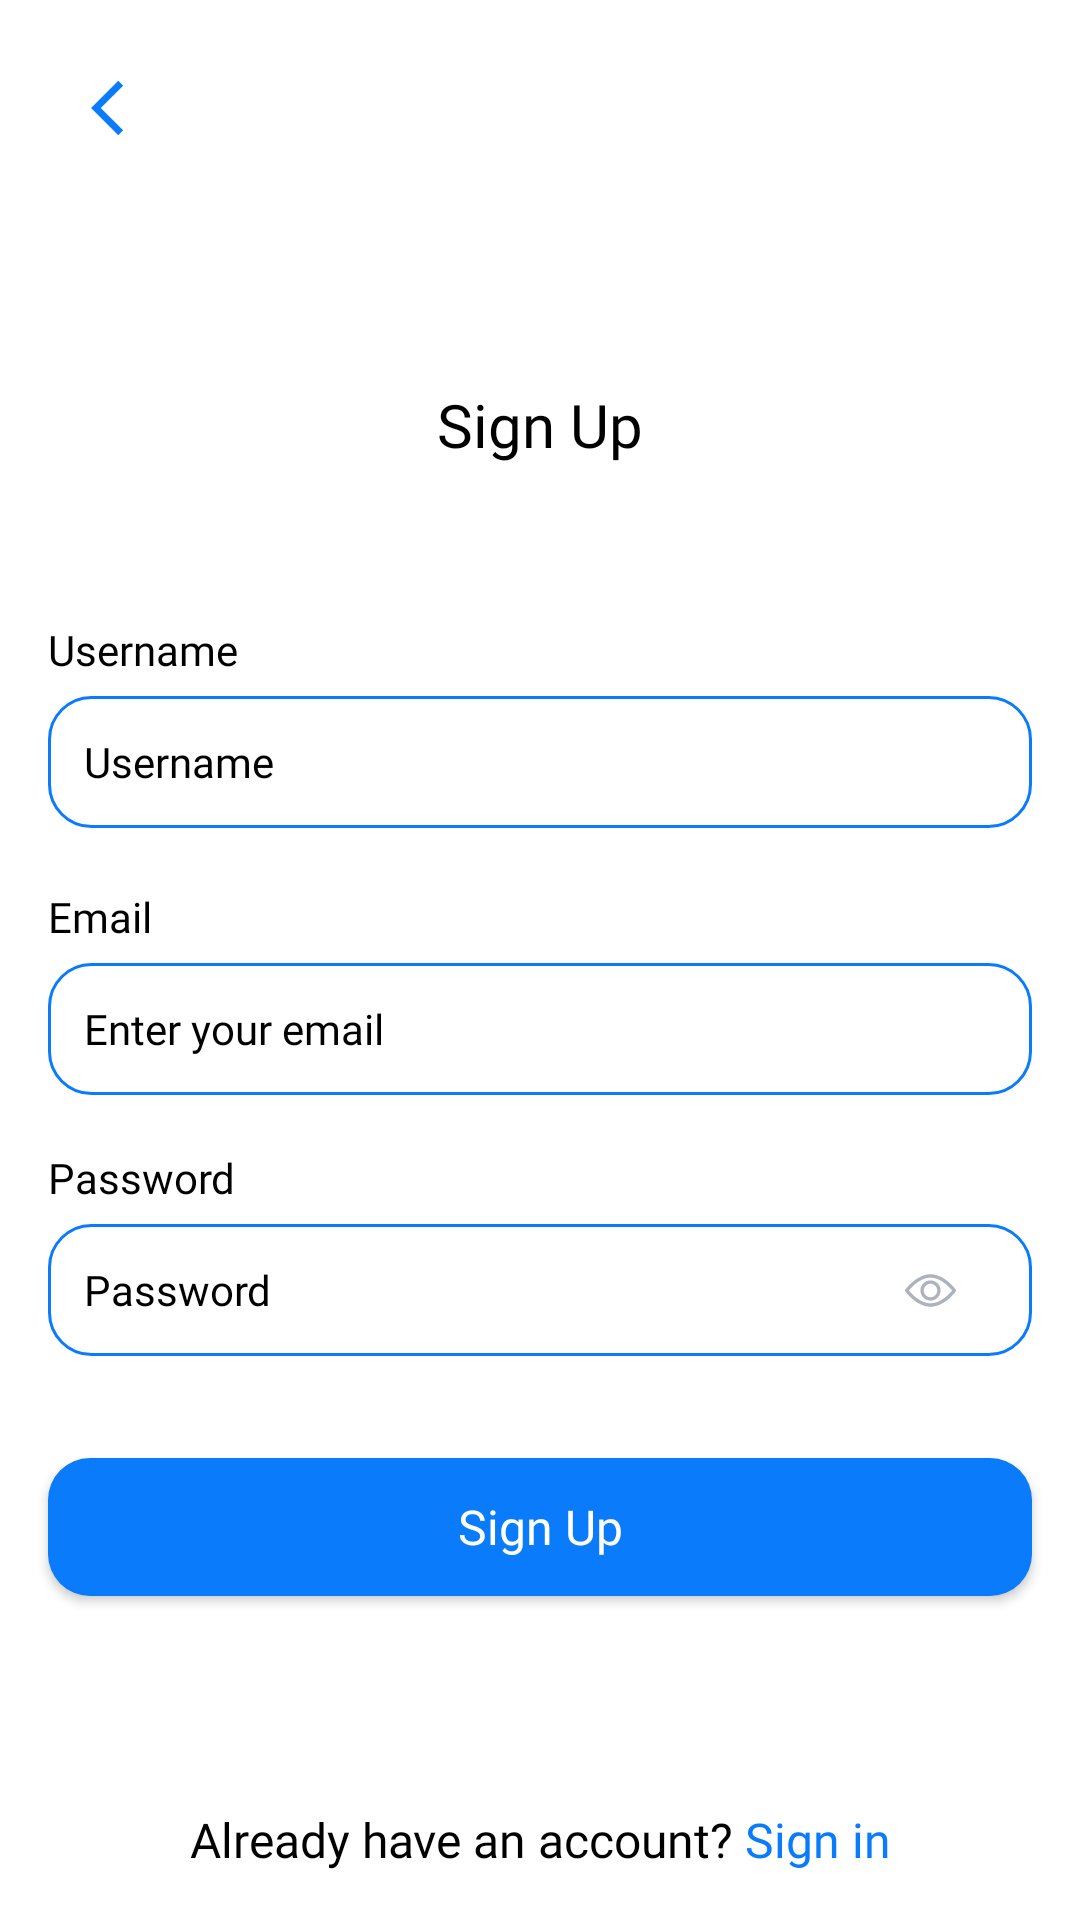

Icons on this 1080×1920 Android screen, each with the point to tap as [x,y]:
arrow back: [107,108]
reveal eye: [930,1290]
